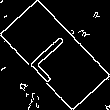L_NE: (25, 26, 85, 84)
